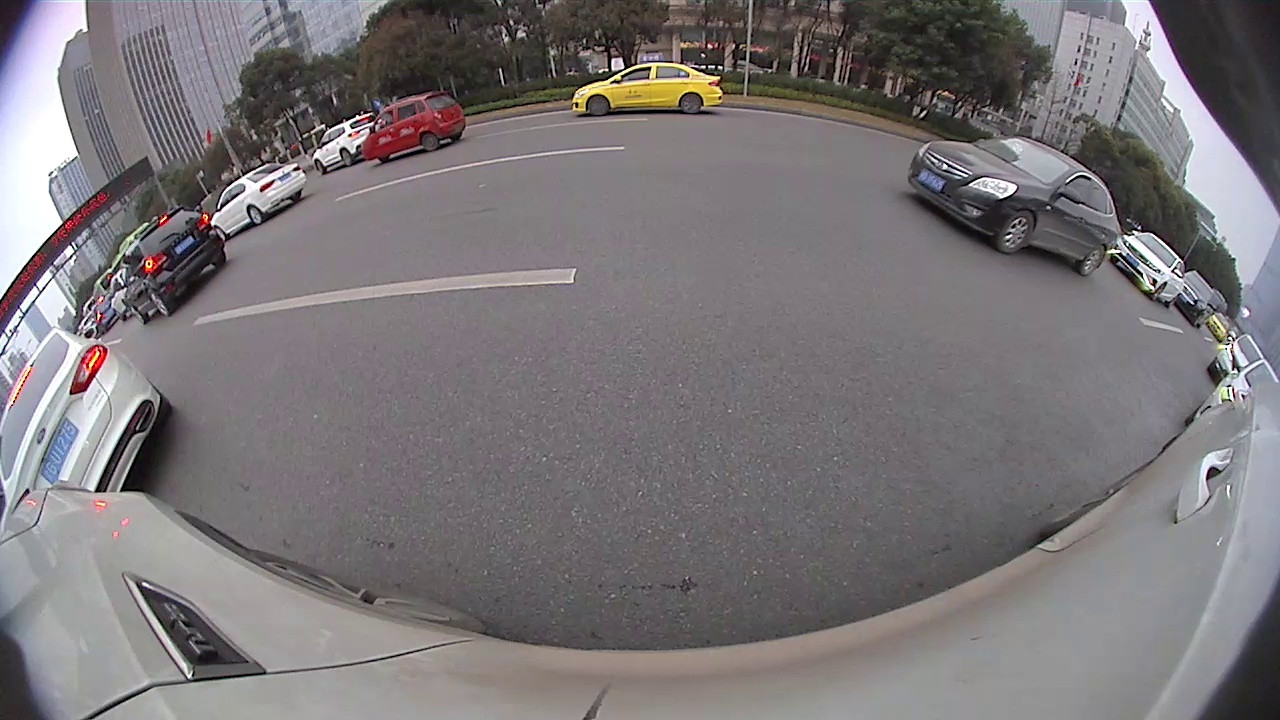car: (2, 322, 176, 507), (910, 133, 1118, 279), (122, 208, 229, 324), (570, 57, 727, 122), (362, 88, 469, 168), (213, 158, 308, 236), (1114, 231, 1187, 308), (315, 109, 387, 174)
front: (997, 210, 1037, 254), (588, 96, 611, 117)
rear: (1081, 244, 1106, 276), (148, 288, 170, 318), (679, 93, 703, 115), (420, 133, 440, 152), (248, 206, 264, 225), (341, 148, 354, 167)
